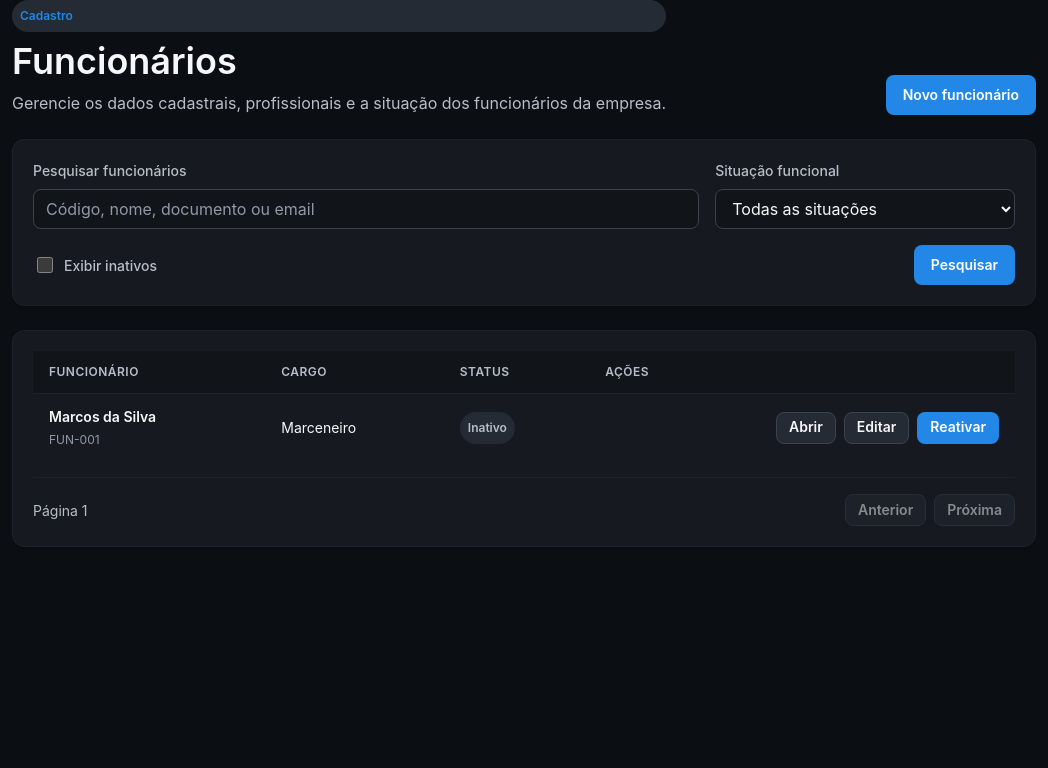
Test: EmployeesRoute › reativa um funcionário inativo
expect the button "Marcos da Silva" is shown: met, box [49,406,156,427]
Step 1. Click the button "Reativar" → point(958, 428), box [917,412,999,444]
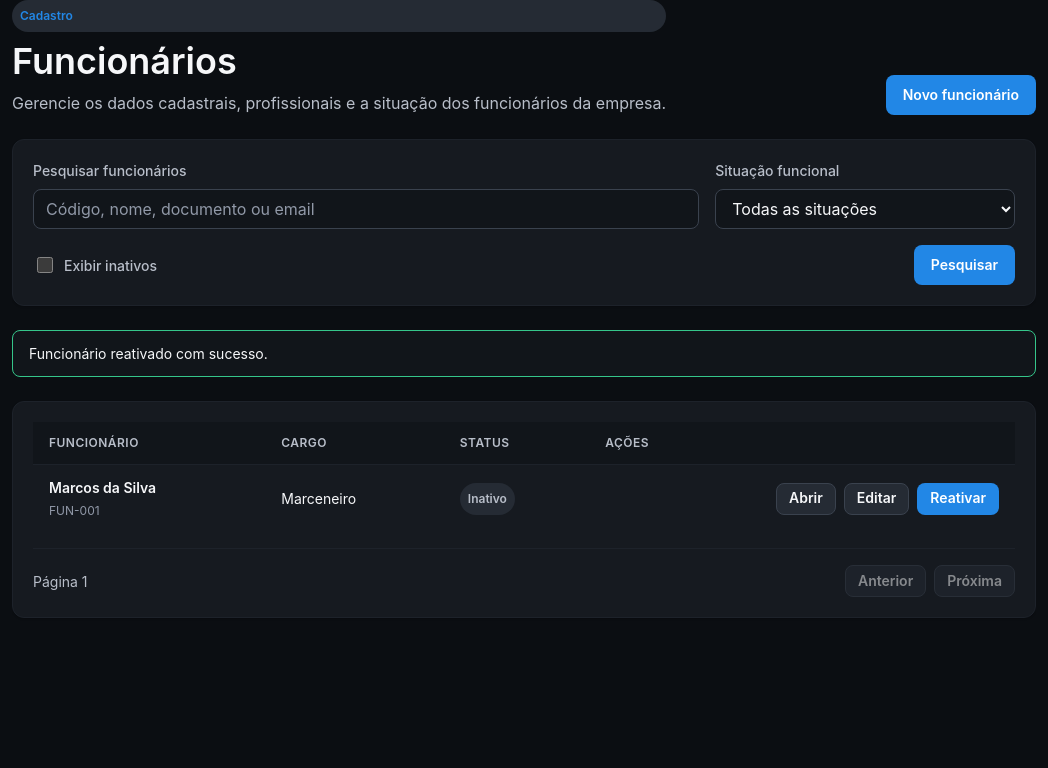
expect the text "Funcionário reativado com sucesso." is shown: met, box [12,330,1036,377]
